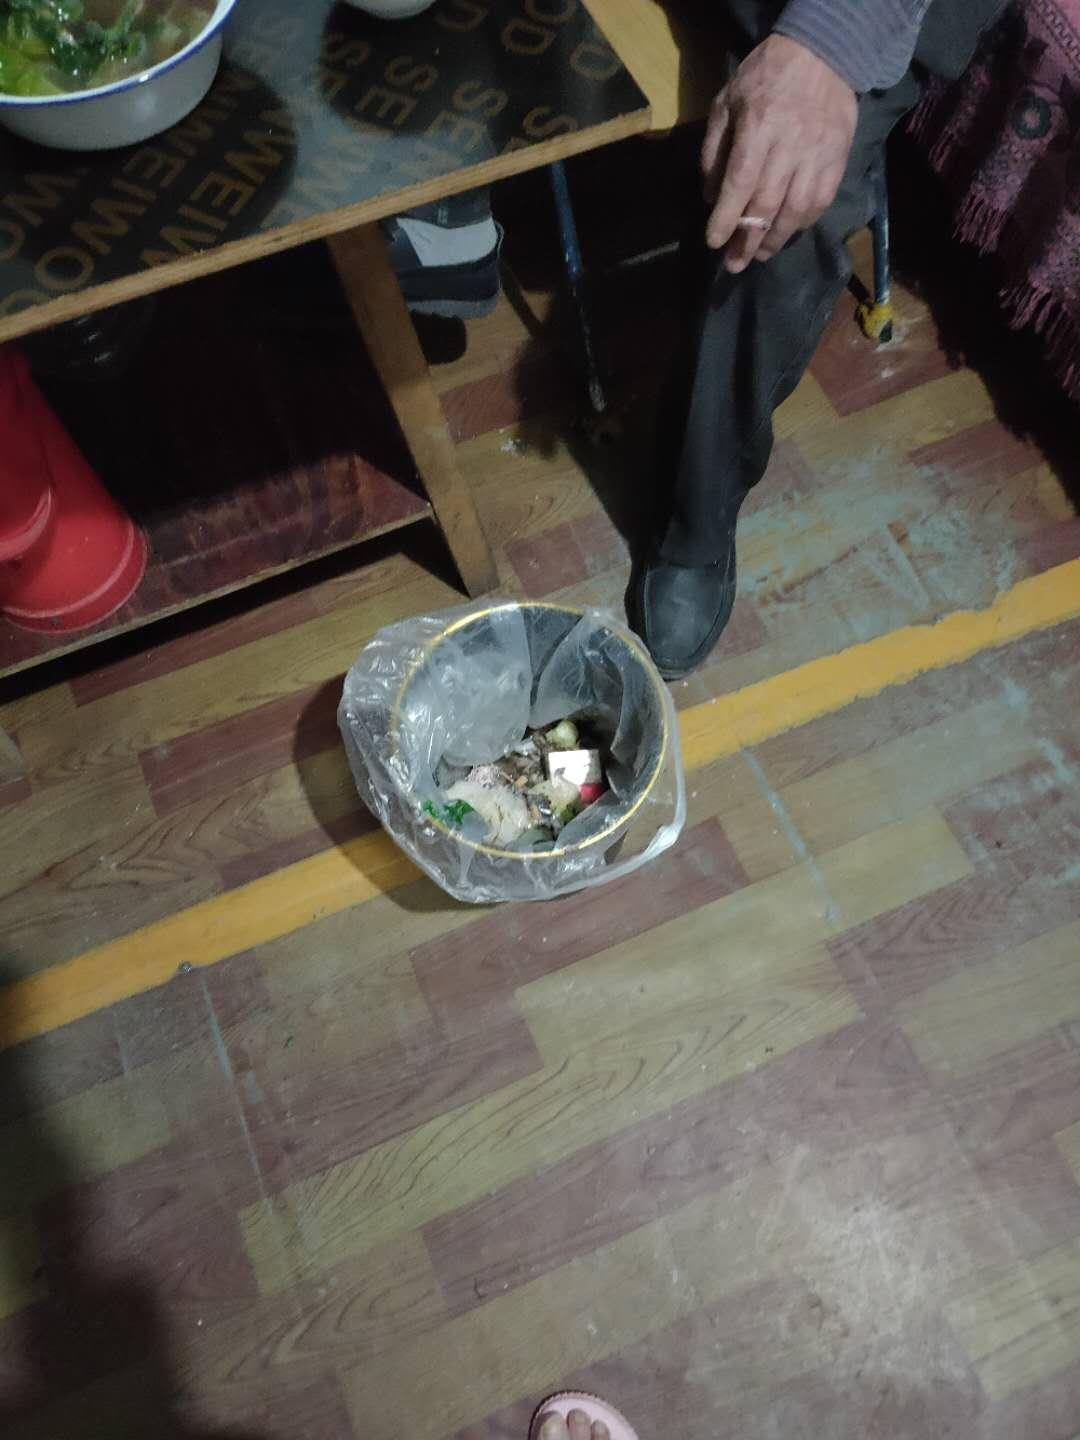Cigarette: (736, 214, 768, 231)
